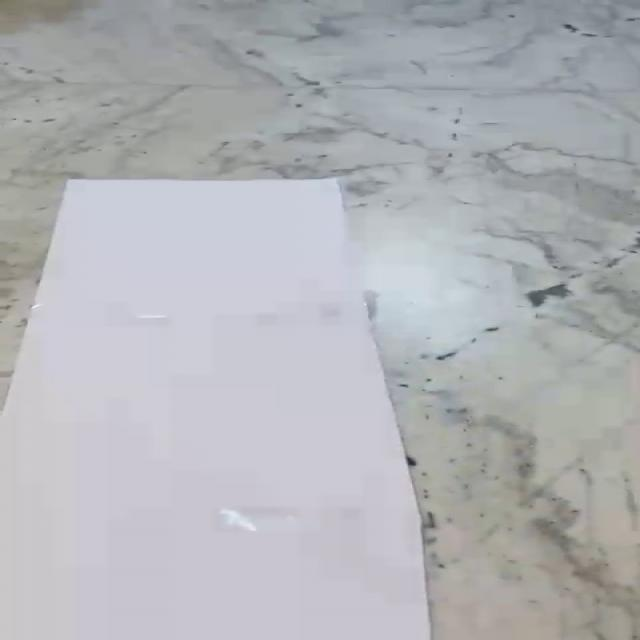road: (0, 179, 432, 640)
